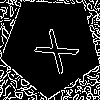X: (26, 20, 80, 76)
